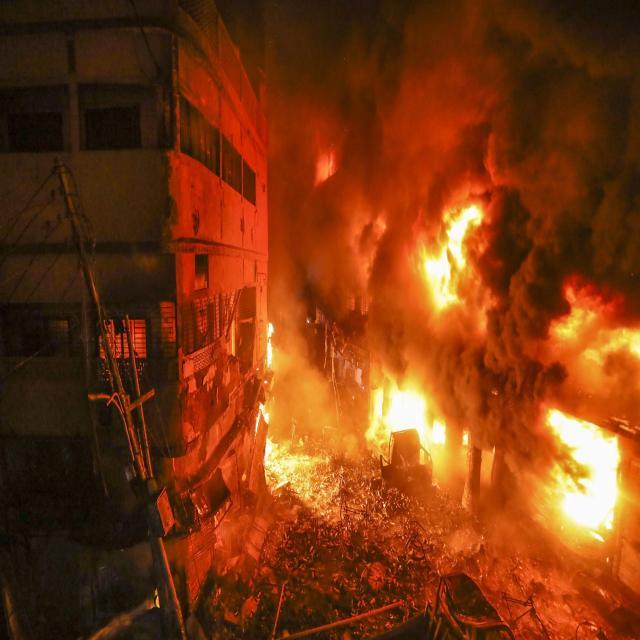Fire: (550, 411, 620, 546), (422, 205, 484, 316), (374, 379, 448, 449), (584, 325, 640, 371), (254, 401, 272, 438), (266, 320, 275, 364), (264, 438, 274, 469)
Smoke: (482, 0, 640, 320), (267, 3, 424, 320), (428, 320, 568, 483), (422, 0, 482, 203), (272, 320, 315, 420), (368, 318, 431, 382), (315, 382, 358, 460)
